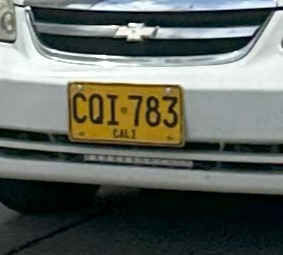number plate: (0, 0, 282, 194), (68, 83, 183, 145)
